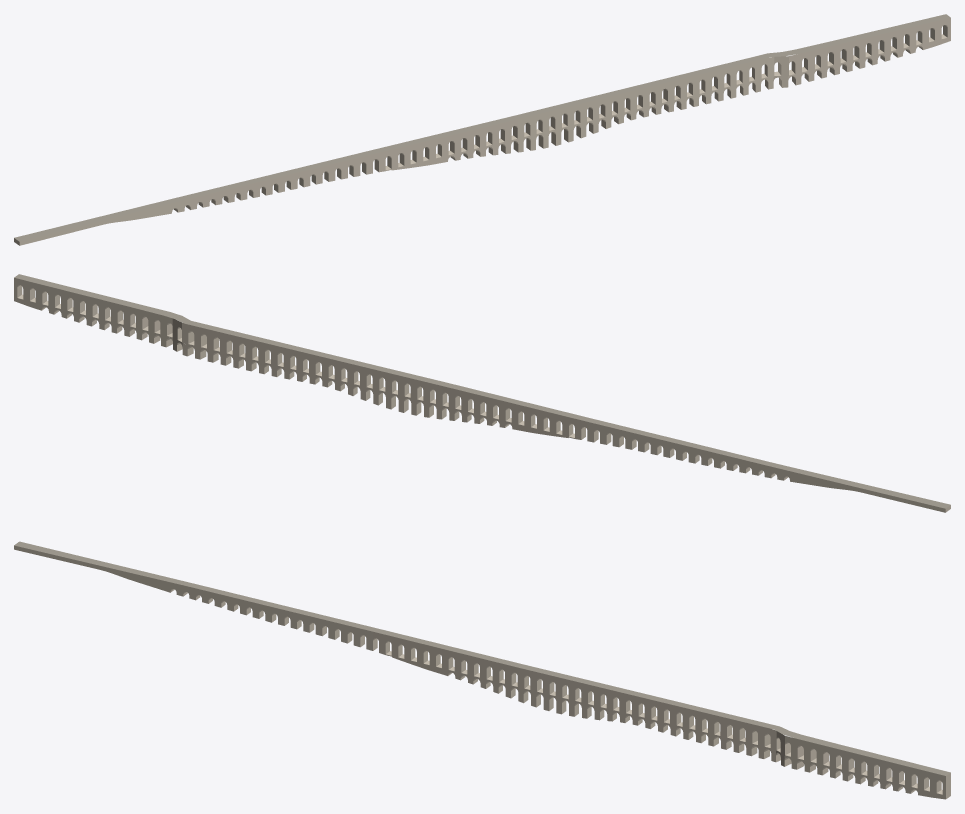
File: istanbul-valens-aqueduct.glb
3 renders of one model, top to bottom at view 1: azimuth 30°, elevation 25°; view 2: azimuth 150°, elevation 25°; view 3: azimuth 330°, elevation 25°, orthographic.
Visible parts, largest first — view 1: Valens Aqueduct; view 2: Valens Aqueduct; view 3: Valens Aqueduct.
Part boxes in pixels (x1=…): Valens Aqueduct: x1=14, y1=14, x2=950, y2=245; Valens Aqueduct: x1=14, y1=274, x2=950, y2=512; Valens Aqueduct: x1=14, y1=541, x2=950, y2=799.
Size of the model in its own units: 592 by 22 by 10.25.
